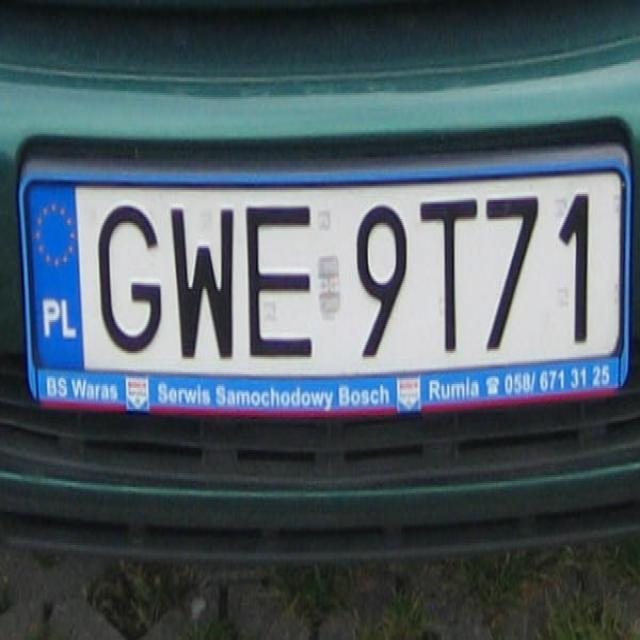pl_license_plate: (25, 173, 620, 374)
